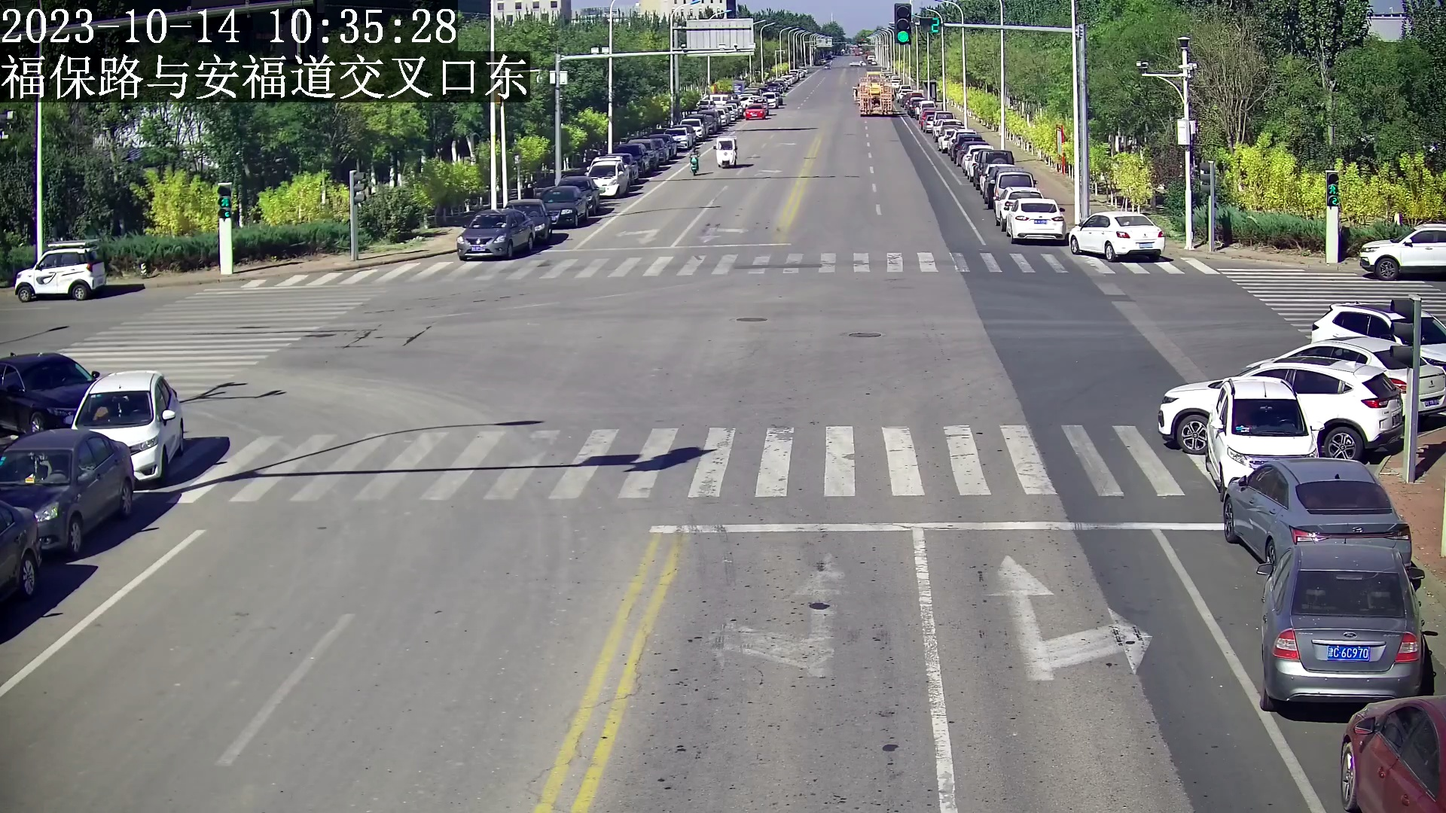vehicle: (1258, 539, 1421, 711), (1155, 357, 1402, 455), (1225, 458, 1411, 573), (0, 428, 136, 553), (1338, 696, 1446, 812), (73, 369, 183, 480), (1208, 378, 1322, 480), (2, 350, 97, 434), (14, 239, 107, 301), (1065, 207, 1170, 260), (1360, 218, 1445, 279), (454, 208, 535, 260), (1007, 195, 1064, 243), (712, 135, 737, 169)
